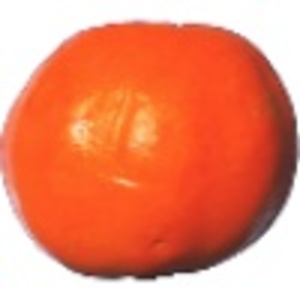tangerina: (2, 18, 300, 281)
